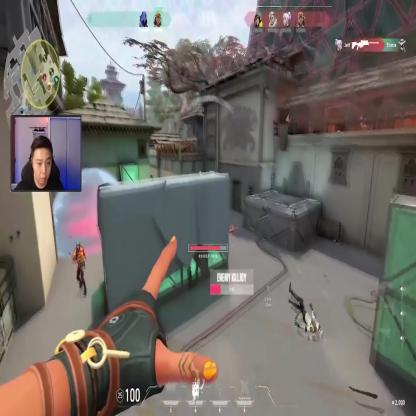enemy: (72, 238, 86, 300)
enemy_head: (76, 240, 80, 250)
